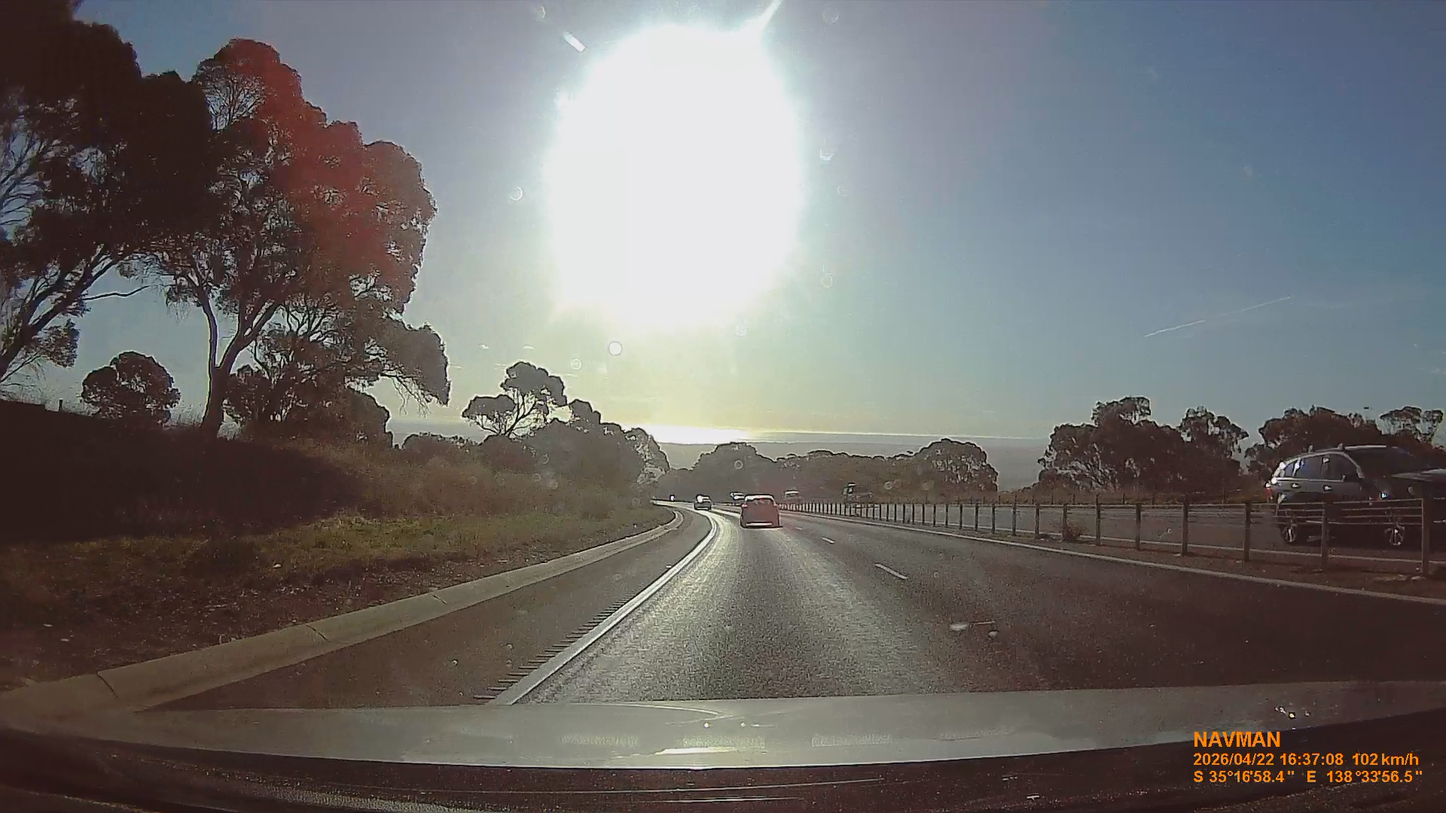fences: (811, 502, 1286, 560)
road barriers: (0, 510, 684, 718)
